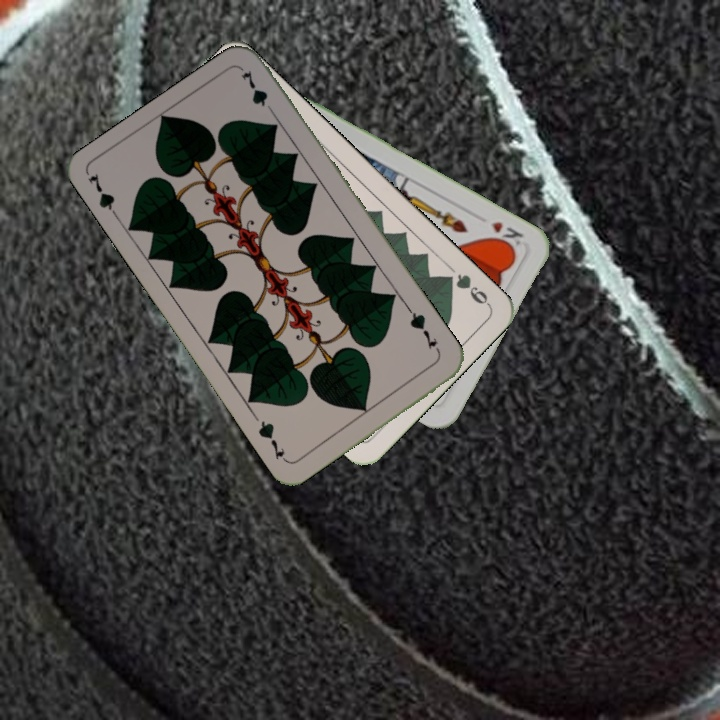G7: (83, 169, 124, 225), (404, 305, 440, 352)
G9: (439, 270, 493, 308)
HK: (486, 217, 526, 253)
